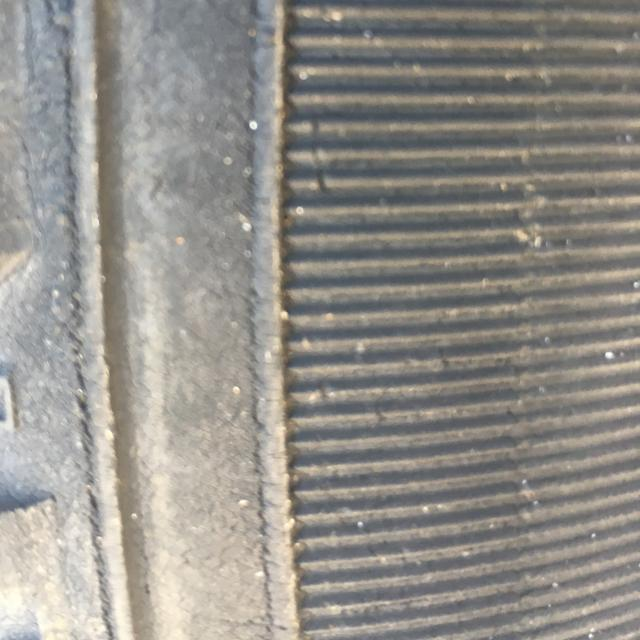Cracks: (41, 5, 122, 635), (233, 0, 283, 640)
